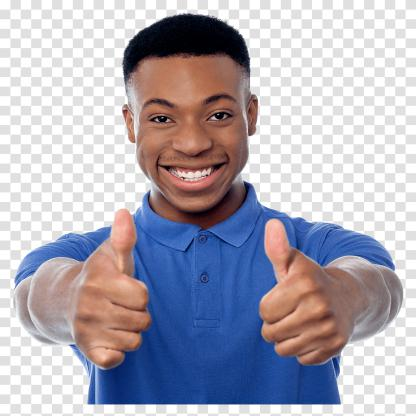Thumbs up: (238, 217, 354, 387), (66, 201, 164, 369)
